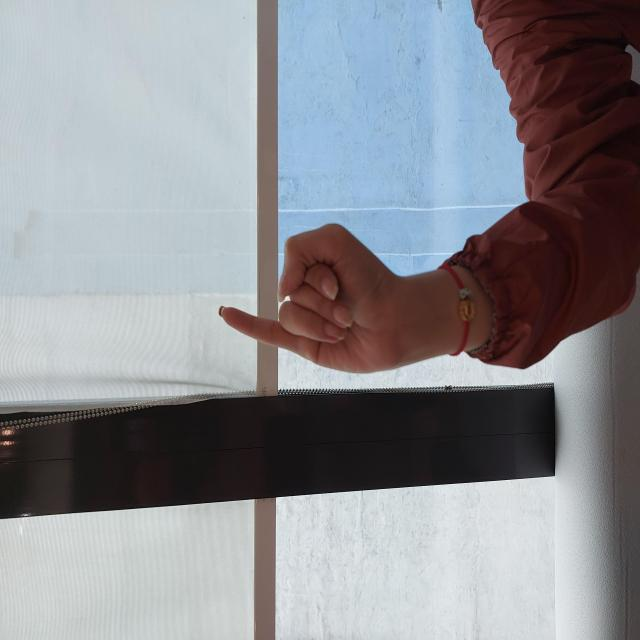I: (265, 216, 420, 408)
